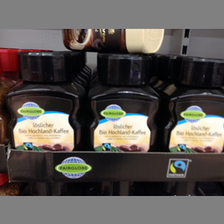coffee: (5, 49, 85, 150), (87, 50, 159, 151), (165, 57, 224, 153), (61, 28, 165, 55)
